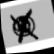not correct: (9, 5, 41, 46)
